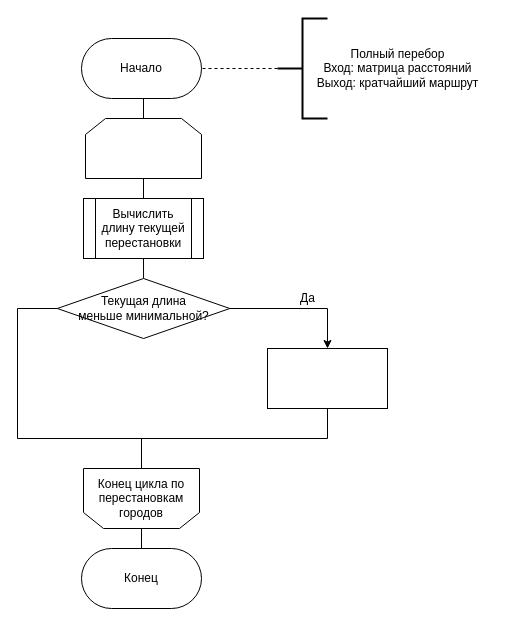
This 505x626 diagram has some shape labels left out. Here are the shapes that lost their labels. From the top down, the centre of each, then its label:
At (x=143, y=148): "Цикл по перестановкам городов".
At (x=327, y=378): "Минимальный путь = текущий путь".
